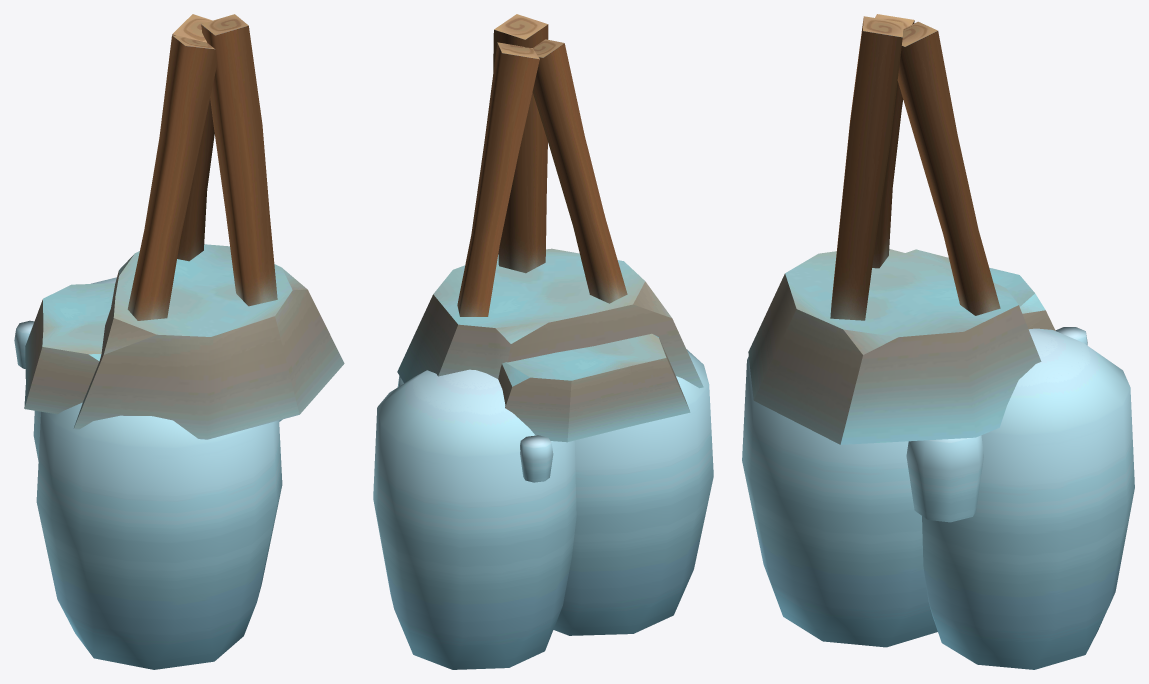
The model's file is Obstacle1B-001_02_25_3657.fbx.
3 views of the same model, side by side, from view 1: azimuth 30°, elevation 25°; view 2: azimuth 150°, elevation 25°; view 3: azimuth 270°, elevation 25° (orthographic). The views are drawn at different scales.
Parts seen in each view (by area): view 1: Snowpile (6), Rock (2), Wood3, Wood1, Rock (1), Wood2, Snowpile (2); view 2: Snowpile (1), Snowpile (6), Rock (2), Rock (1), Wood2, Wood1, Wood3, Snowpile (2); view 3: Snowpile (1), Rock (2), Snowpile (6), Wood3, Wood2, Snowpile (5), Wood1, Rock (1).
Part boxes in pixels (x1,y1,x2,y2): Snowpile (6): (36, 402, 282, 669); Rock (2): (73, 244, 344, 439); Wood3: (201, 14, 277, 306); Wood1: (127, 35, 217, 320); Rock (1): (24, 283, 115, 414); Wood2: (172, 14, 214, 261); Snowpile (2): (14, 320, 34, 368); Snowpile (1): (373, 369, 576, 669); Snowpile (6): (553, 349, 713, 635); Rock (2): (397, 248, 703, 388); Rock (1): (498, 333, 690, 442); Wood2: (457, 42, 539, 316); Wood1: (532, 39, 627, 303); Wood3: (493, 14, 548, 273); Snowpile (2): (520, 435, 553, 482); Snowpile (1): (922, 328, 1134, 669); Rock (2): (748, 249, 1041, 444); Snowpile (6): (742, 356, 937, 647); Wood3: (830, 16, 903, 320); Wood2: (897, 21, 1000, 315); Snowpile (5): (906, 435, 983, 522); Wood1: (872, 14, 914, 268); Rock (1): (906, 249, 1055, 330).
Bounding box in the file's own units: 2.39 × 4.68 × 2.68.
